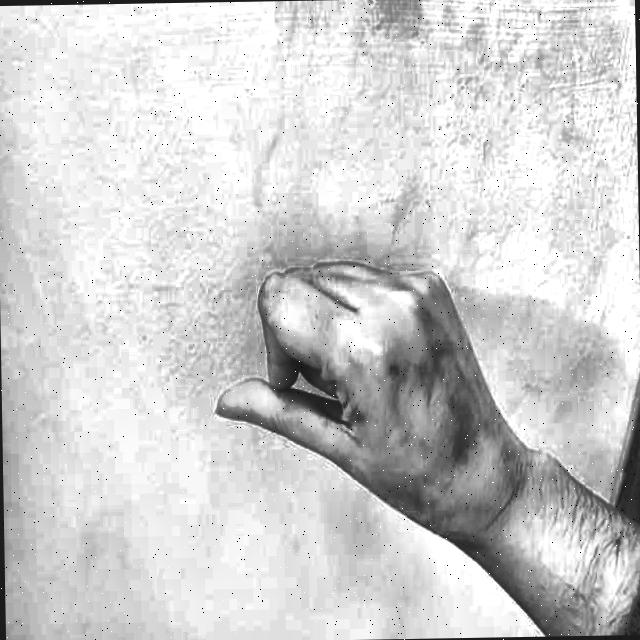Ay: (184, 216, 540, 558)
